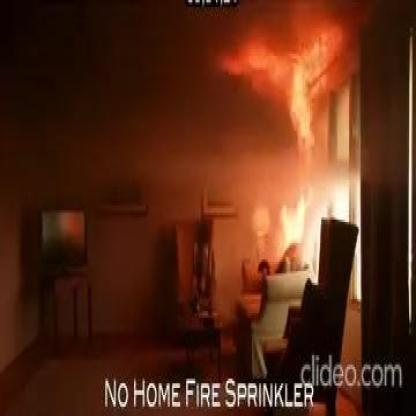fire: (234, 35, 308, 157), (311, 30, 337, 93), (274, 192, 305, 243)
